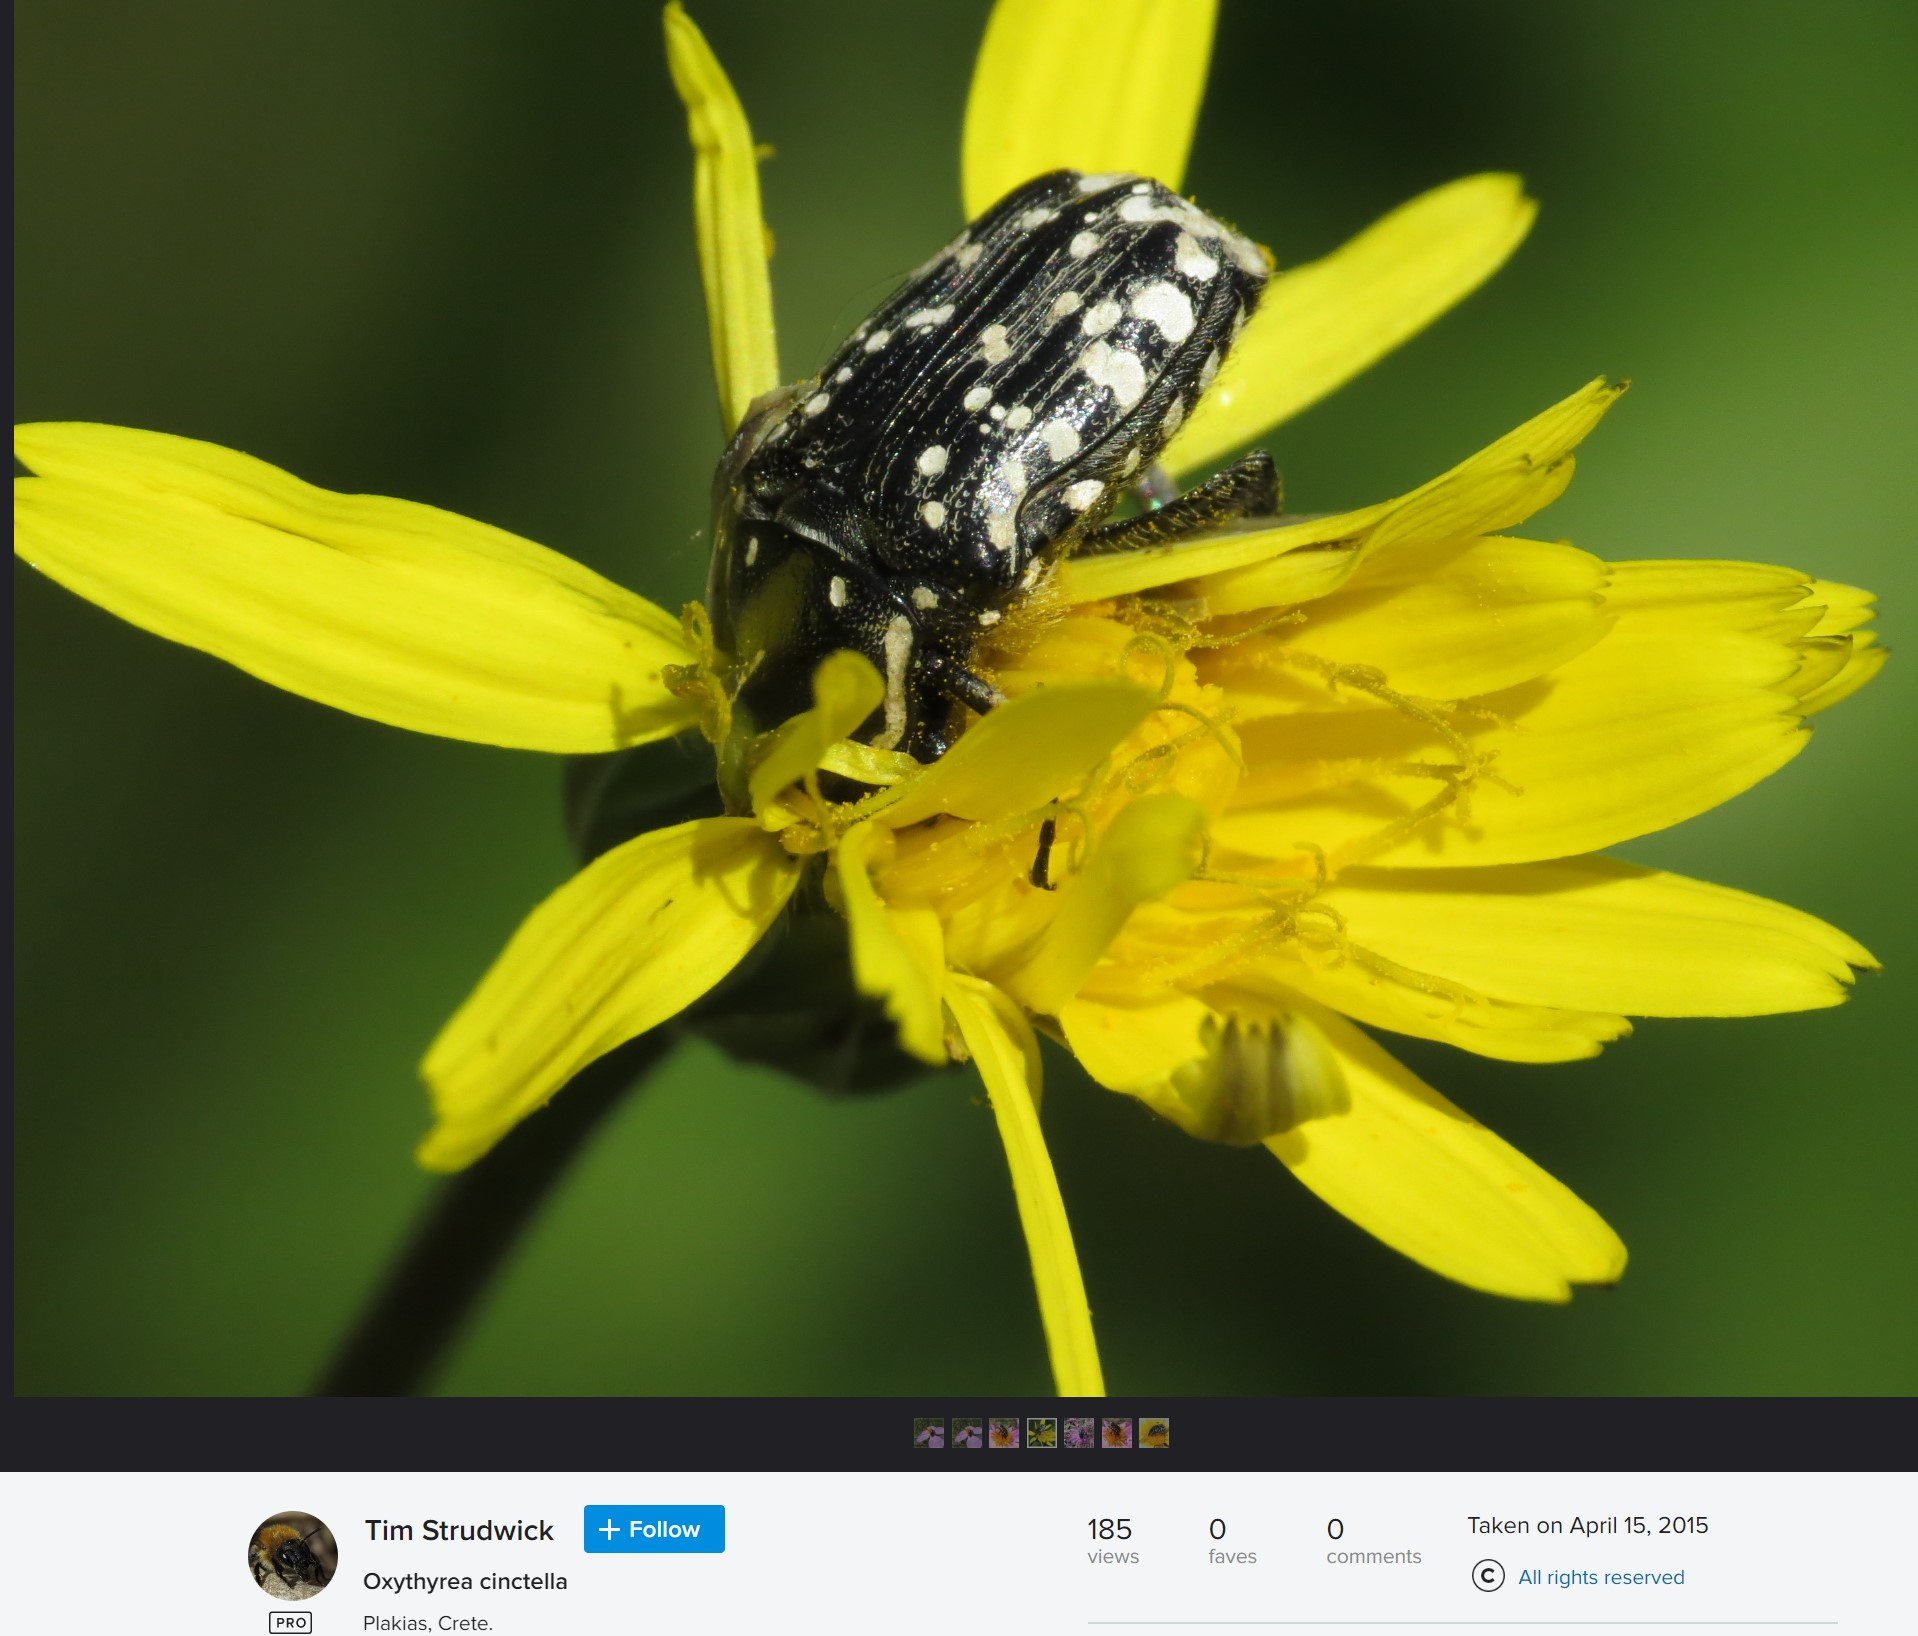Oxythyrea_cinctella: (685, 141, 1300, 768)
